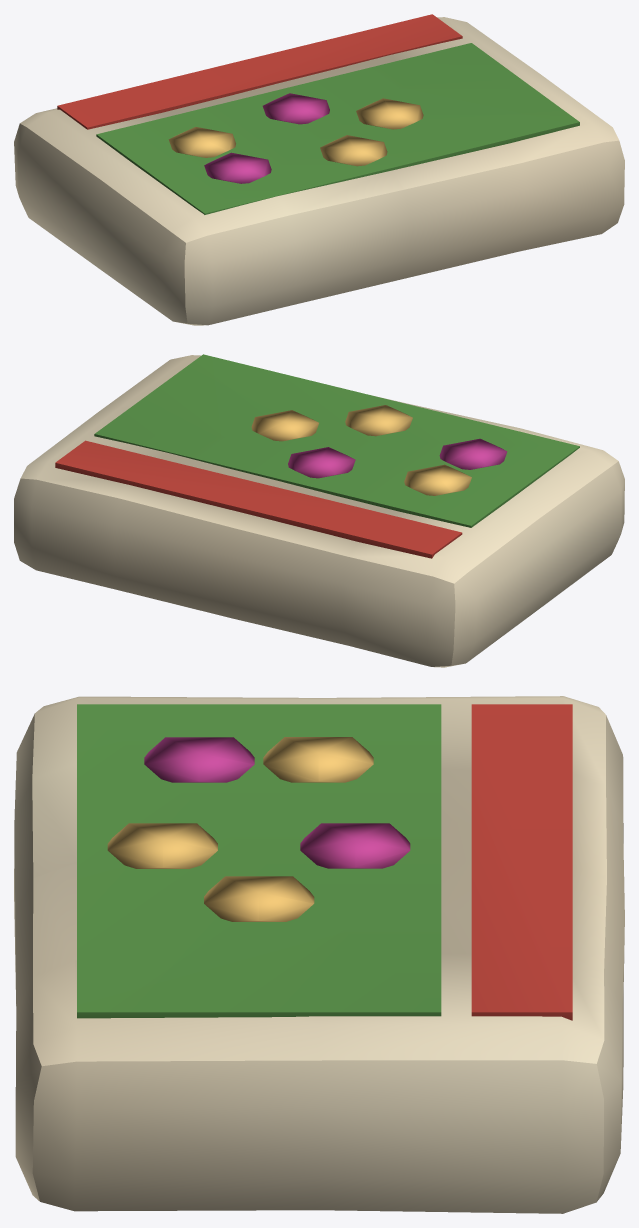
The model's file is canopy_seed_packet.glb.
The picture shows the model from 3 angles, top to bottom: view 1: azimuth 30°, elevation 25°; view 2: azimuth 150°, elevation 25°; view 3: azimuth 270°, elevation 25°; orthographic projection. The views are drawn at different scales.
Parts seen in each view (by area): view 1: canopy_seed_packet; view 2: canopy_seed_packet; view 3: canopy_seed_packet.
Boxes of the visible parts, box(x1,y1,x2,y2) form: canopy_seed_packet: box(14, 14, 624, 325); canopy_seed_packet: box(14, 354, 624, 667); canopy_seed_packet: box(14, 696, 624, 1213).
Size of the model in its own units: 4.4 by 1.09 by 3.02.
